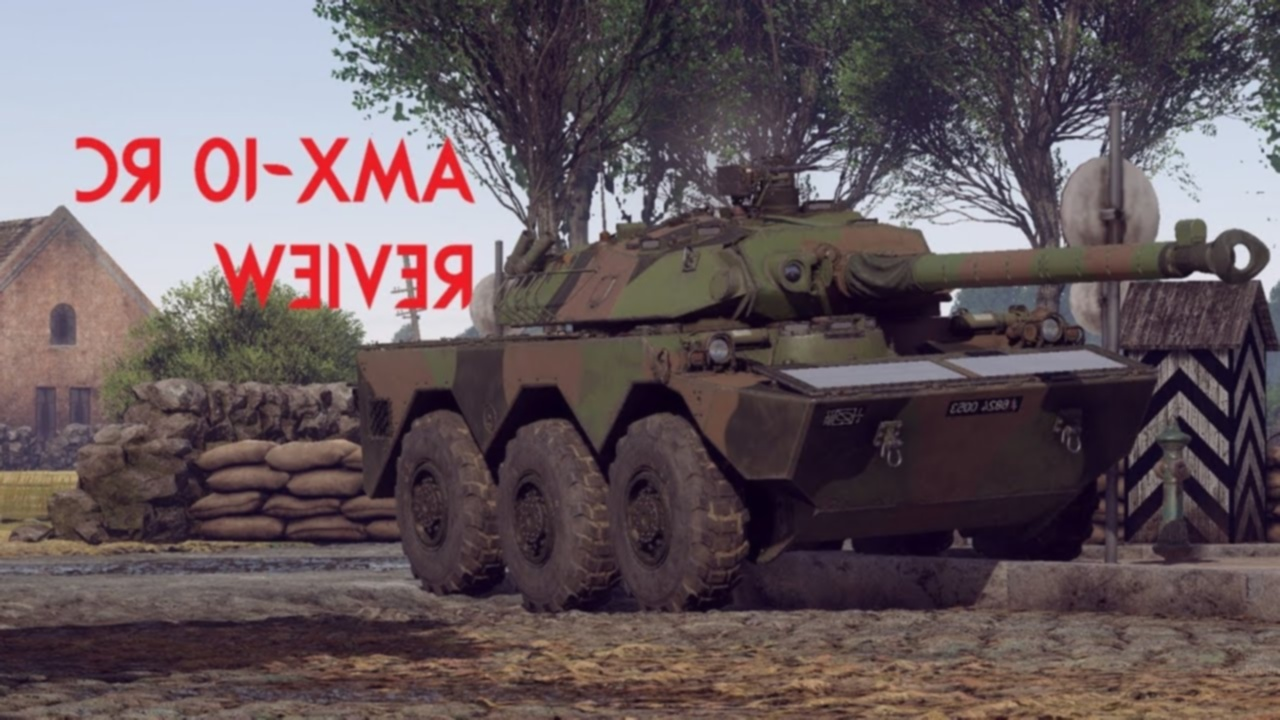license_plate: (946, 395, 1033, 421)
